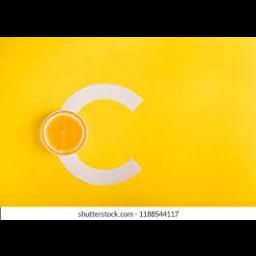c: (48, 73, 148, 195)
